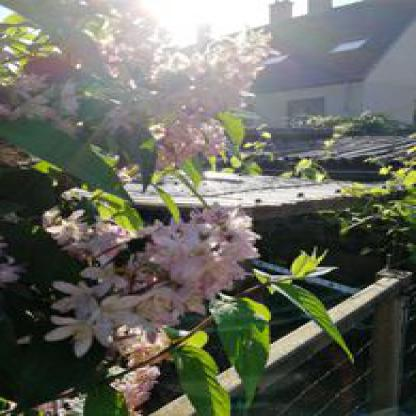Asian Hornet: (94, 226, 165, 276)
